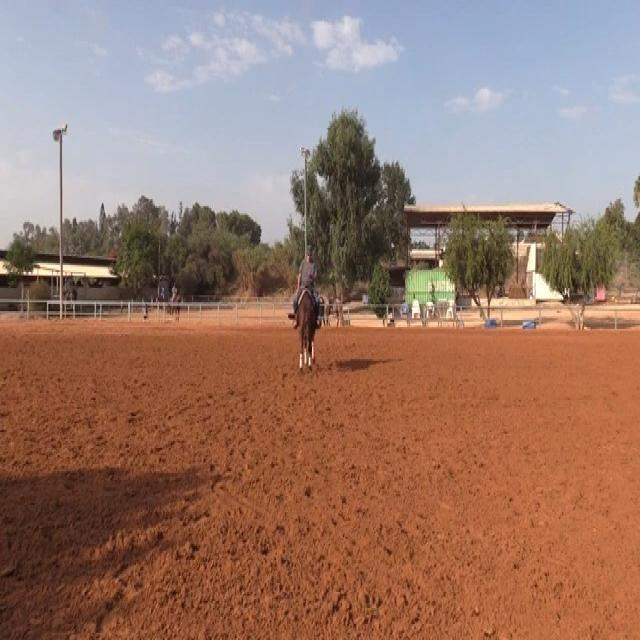horse: (292, 281, 319, 371)
